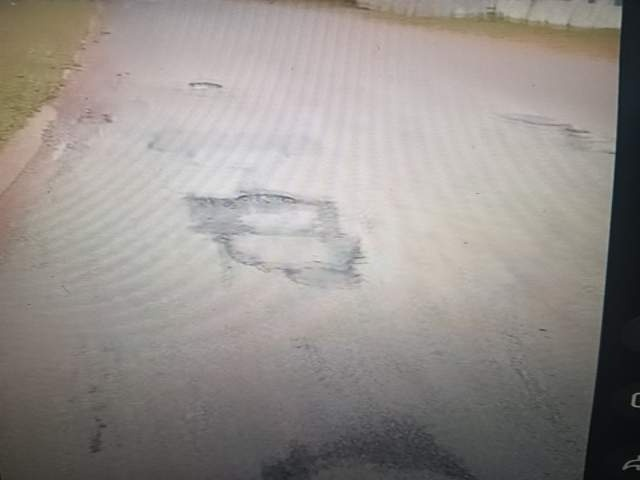pothole: (108, 403, 323, 480)
